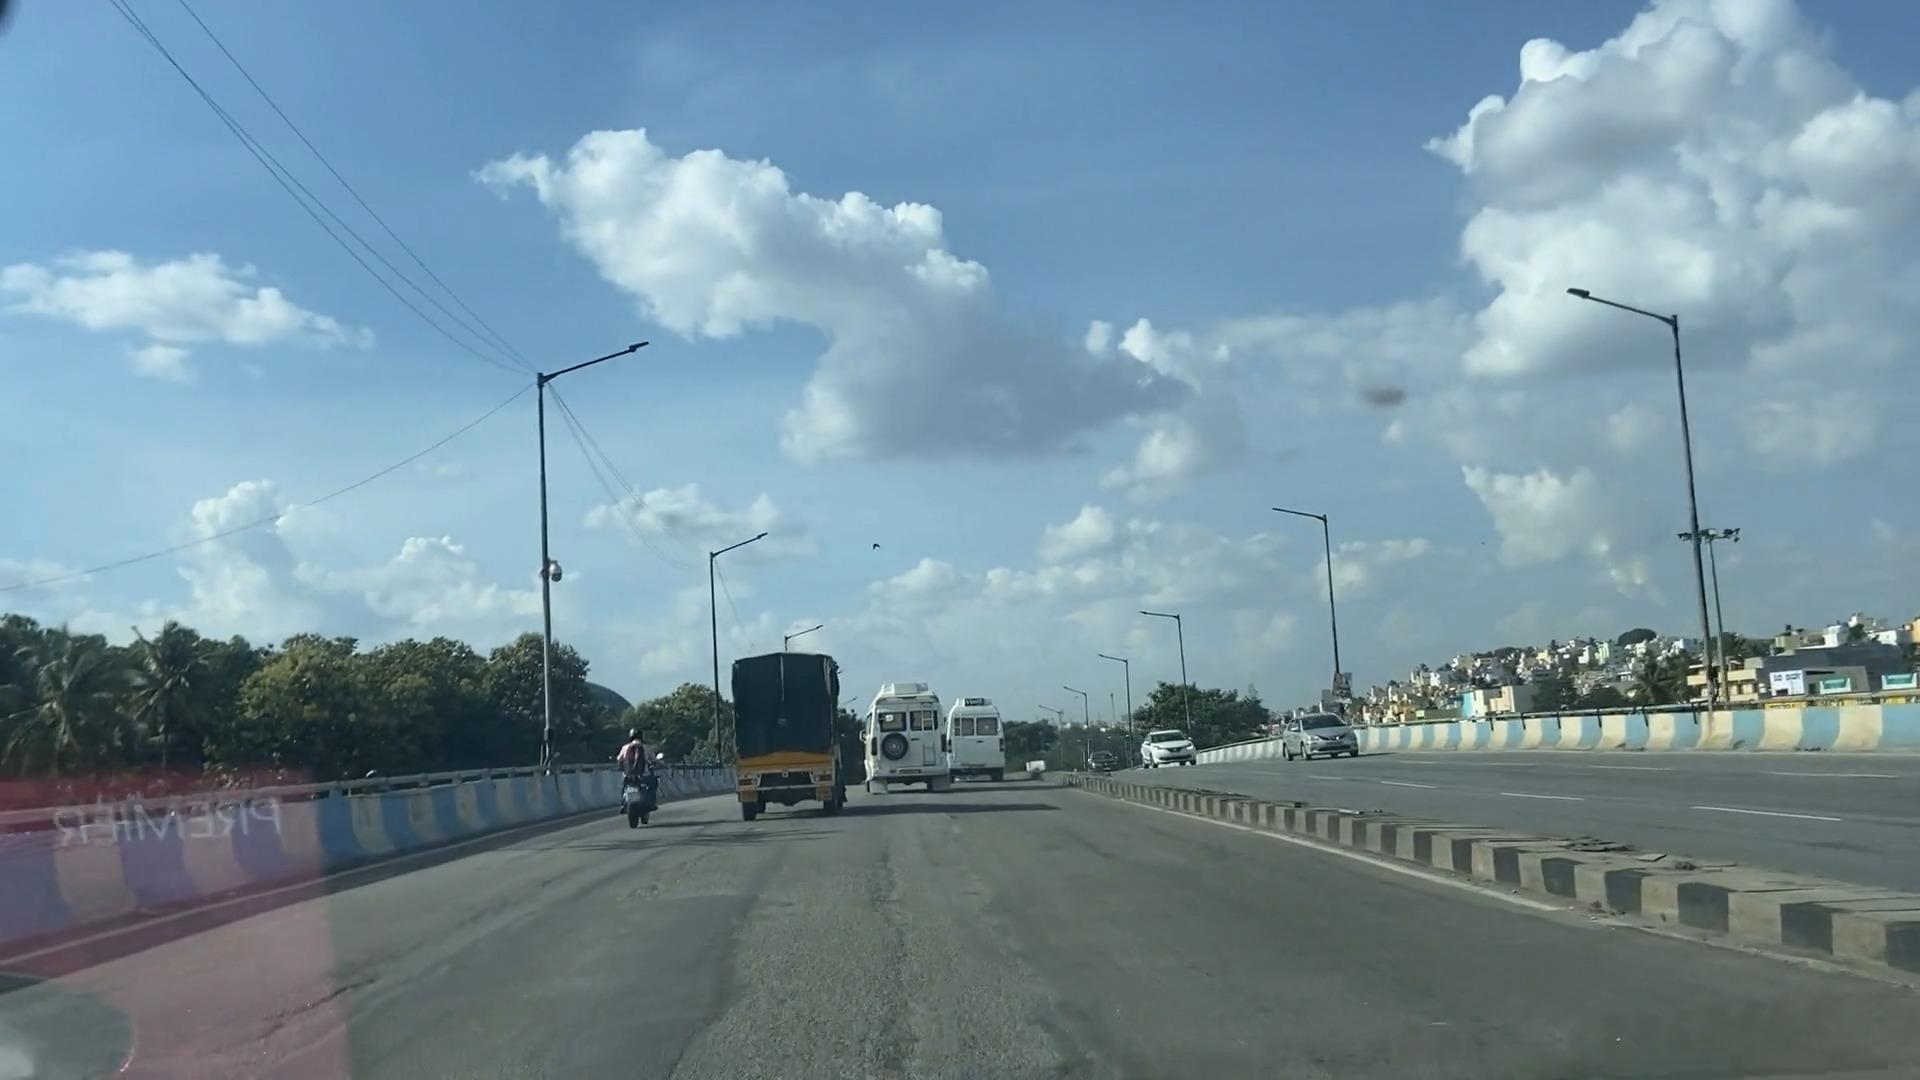HMV: (706, 648, 863, 831), (868, 680, 947, 794), (956, 686, 999, 784)
LMV: (618, 718, 670, 827)
RoadDamages: (696, 894, 1087, 1080), (200, 944, 479, 1080)
